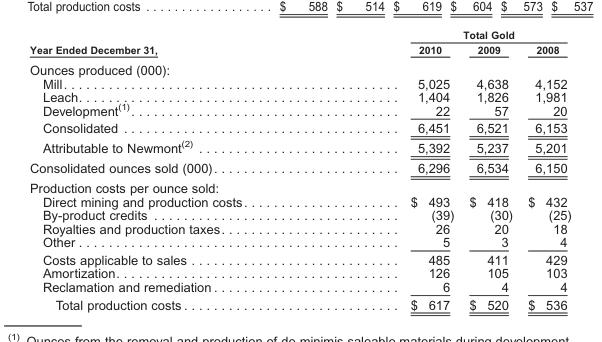table: (28, 28, 570, 311)
table column: (28, 28, 328, 311), (328, 28, 460, 311), (460, 28, 519, 311), (519, 28, 570, 311)
table column header: (28, 28, 570, 58)
table projected row header: (28, 58, 570, 76), (28, 177, 570, 194)
table row: (28, 136, 570, 157), (28, 157, 570, 177), (28, 58, 570, 76), (28, 118, 570, 136), (28, 41, 570, 58), (28, 177, 570, 194), (28, 102, 570, 118), (28, 250, 570, 266), (28, 279, 570, 295), (28, 295, 570, 311), (28, 235, 570, 250), (28, 207, 570, 221), (28, 221, 570, 235), (28, 28, 570, 41), (28, 76, 570, 89), (28, 89, 570, 102), (28, 194, 570, 207), (28, 266, 570, 279)
table spanning cell: (28, 28, 328, 58), (328, 28, 570, 41)
